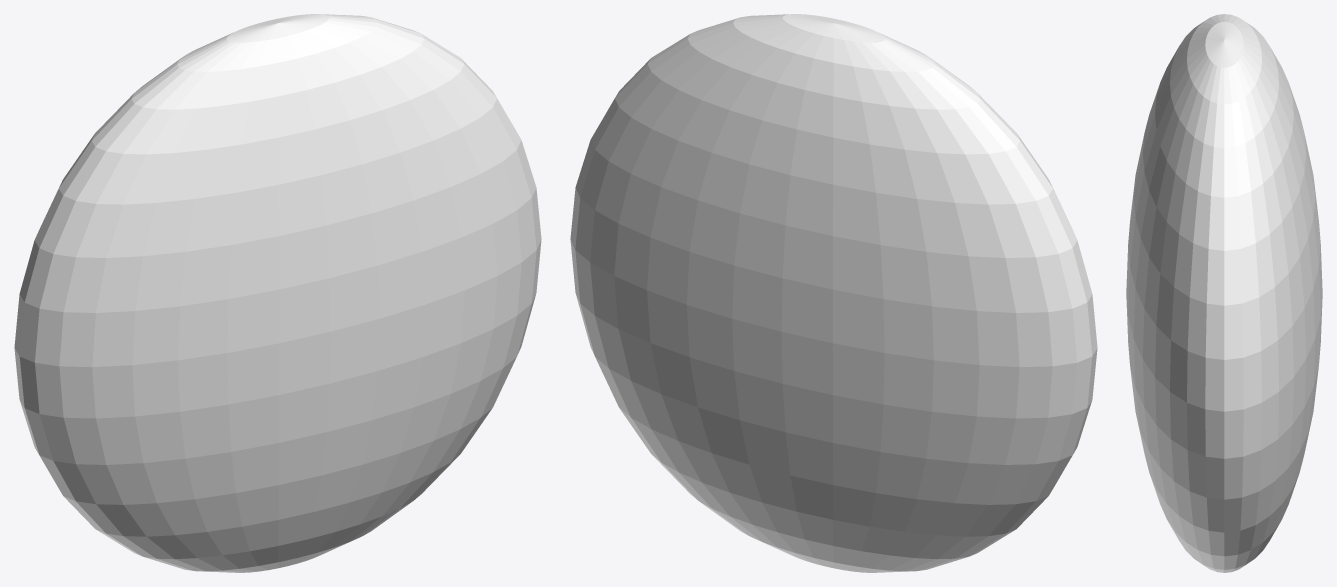
File: AbsolutelyHappy_face.obj
3 renders of one model, left to right at view 1: azimuth 30°, elevation 25°; view 2: azimuth 150°, elevation 25°; view 3: azimuth 270°, elevation 25°, orthographic. The views are drawn at different scales.
Size of the model in its own units: 2 by 2 by 0.7021.
